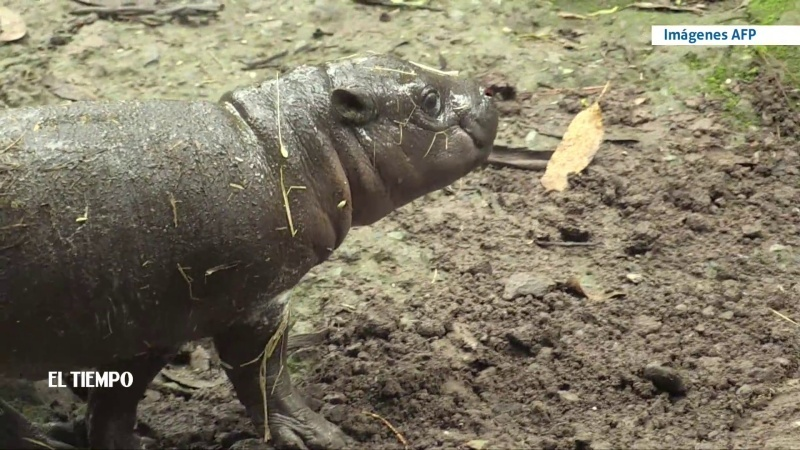hipopotamo: (1, 51, 507, 450)
